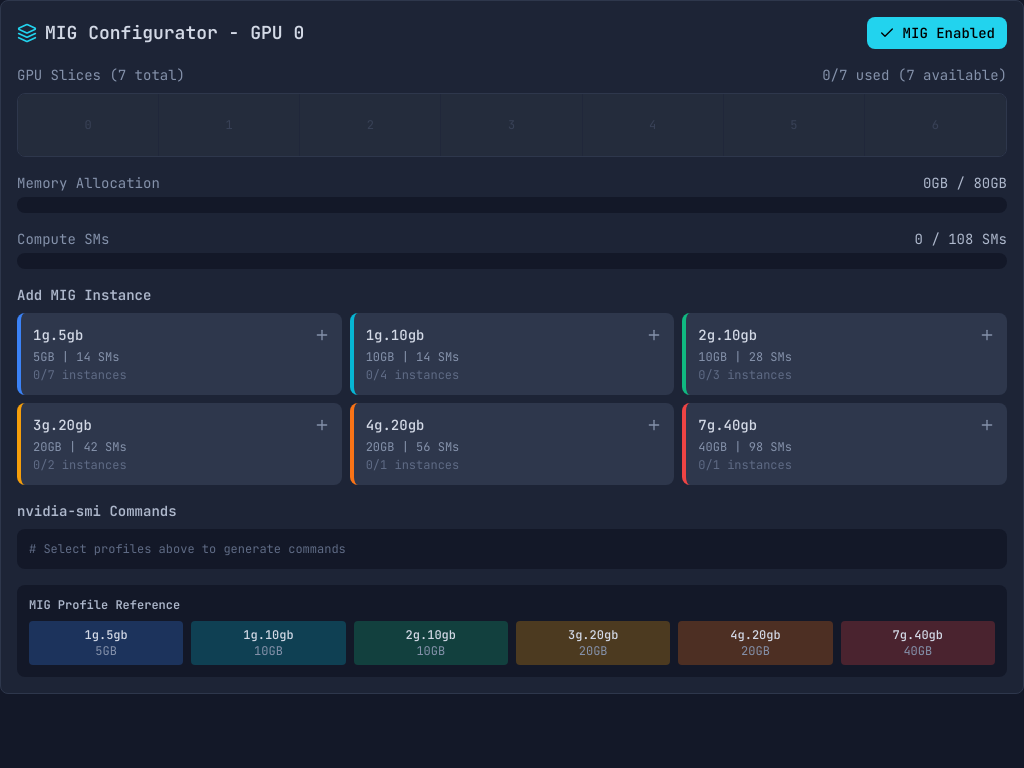
MIGConfigurator › Instance Management › should add instance when profile is clicked
Click the button "1g.5gb 5GB | 14 SMs 0/7 instances" at (58, 335), box 17,313 -> 342,395
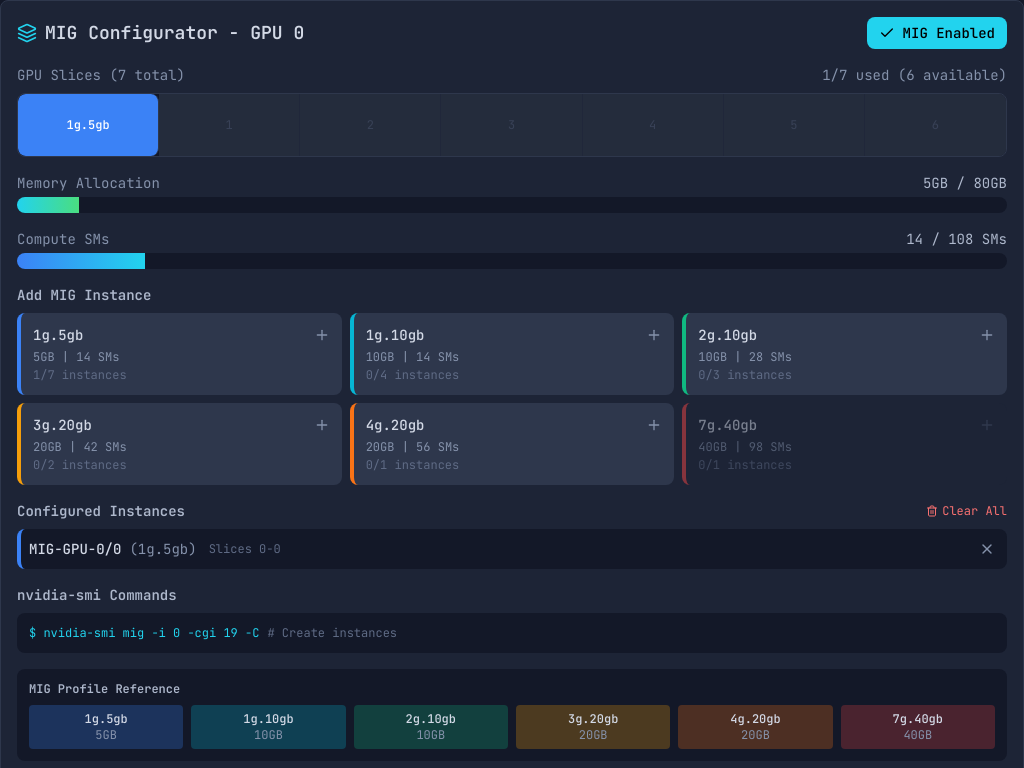
Expected: the heading "Configured Instances" is shown, 17,501 -> 185,521
